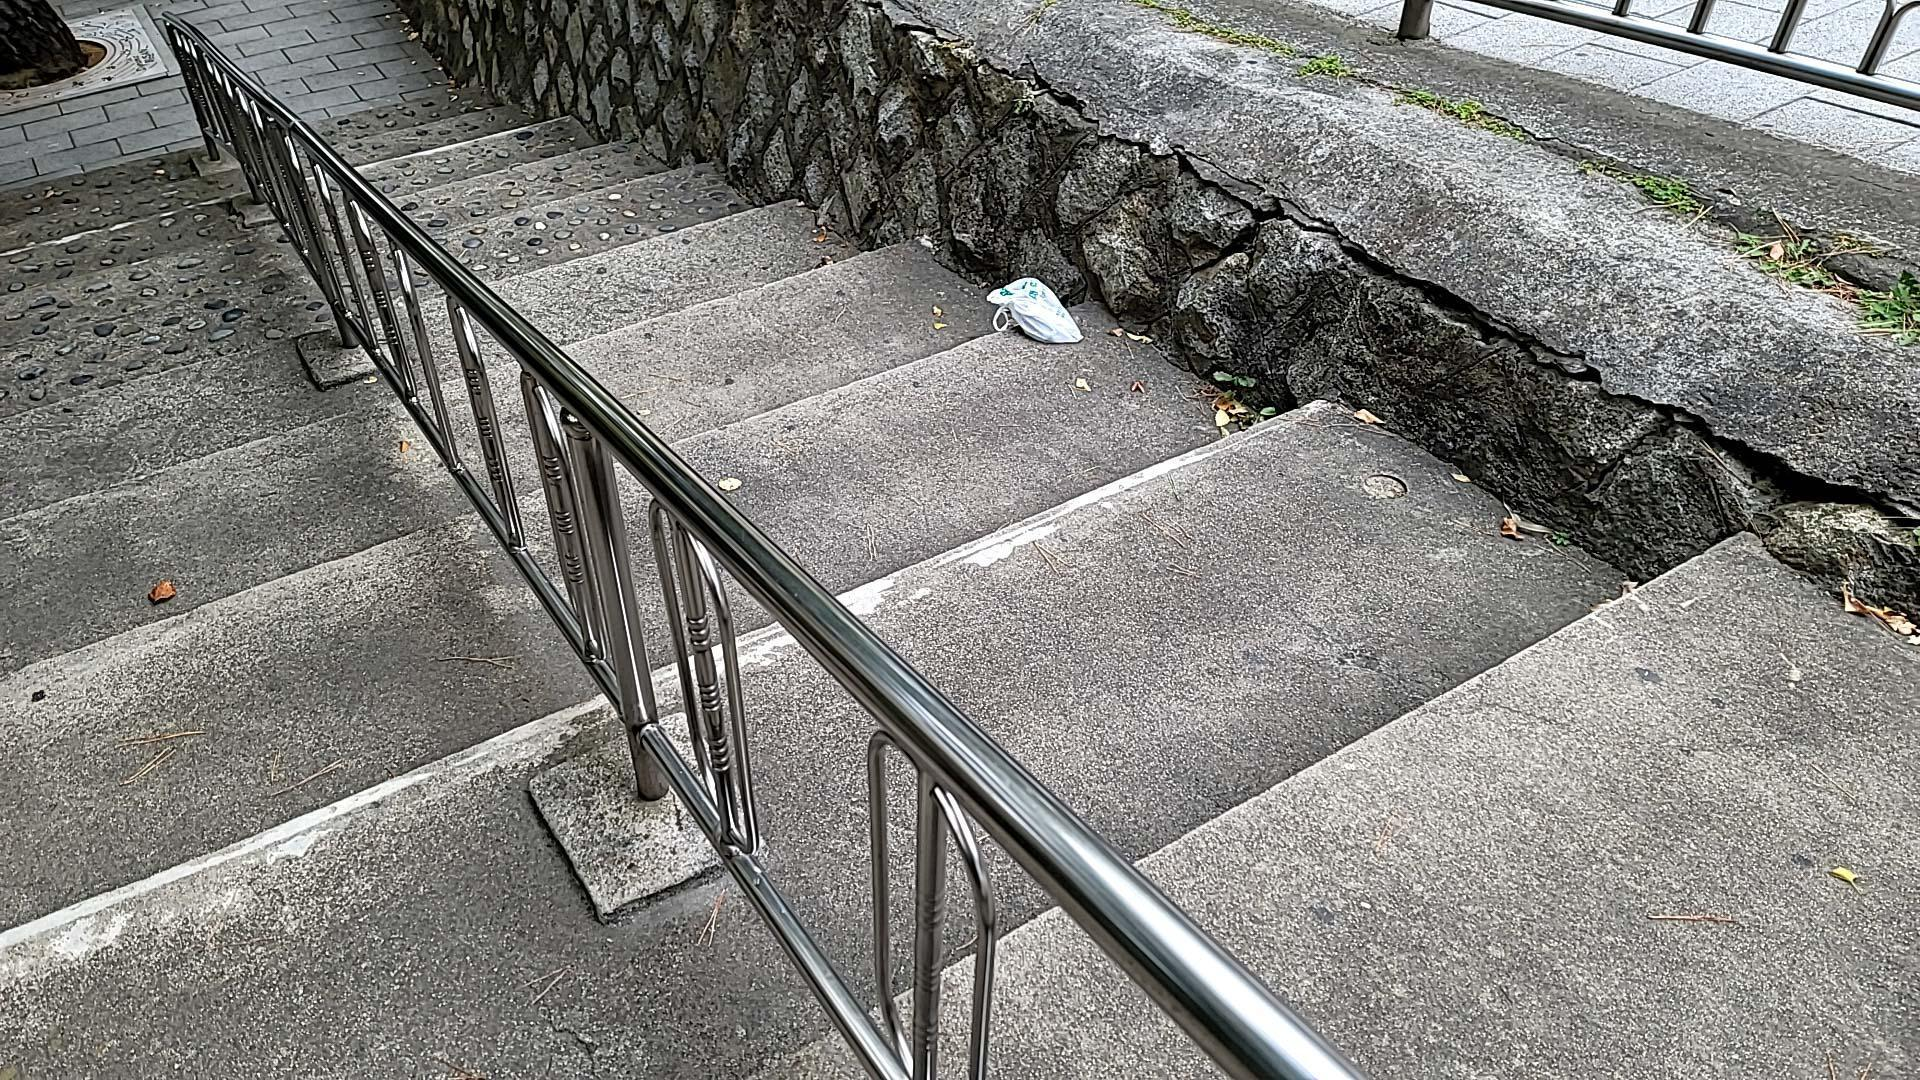white_bag: (977, 272, 1091, 349)
